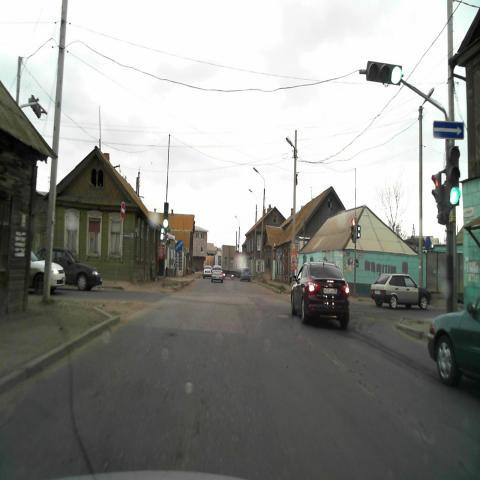5_7_1: (433, 119, 465, 139)
